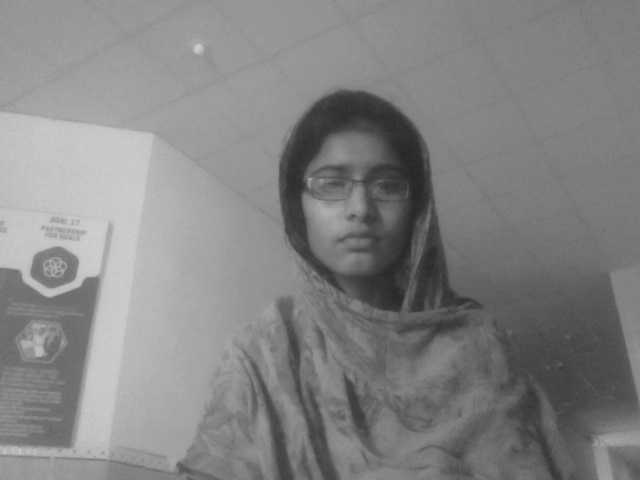Face: (128, 1, 513, 379)
